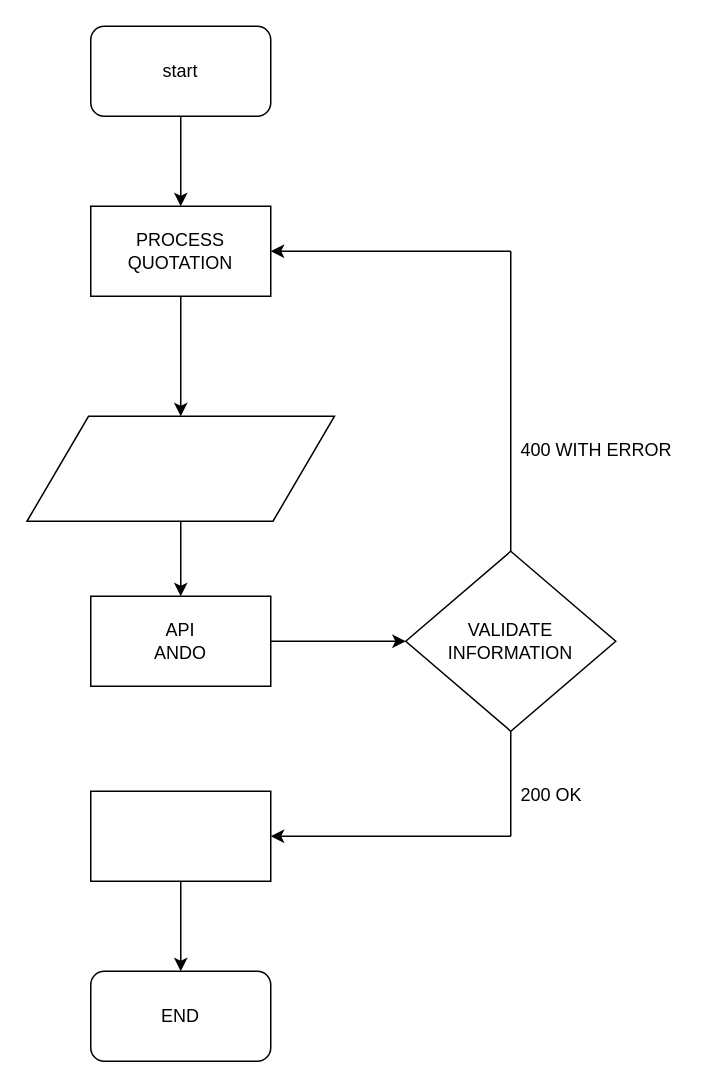
The diagram is 723 pixels wide and 1088 high, and some of its shapes have lost their labels. The shapes that lost their labels are listed below. From the top down, each one's centre as x and y in pixels, then its label:
At point (180, 468): "QUOTATION OTHER INFORMATION".
At point (180, 835): "PAYMENTS".
